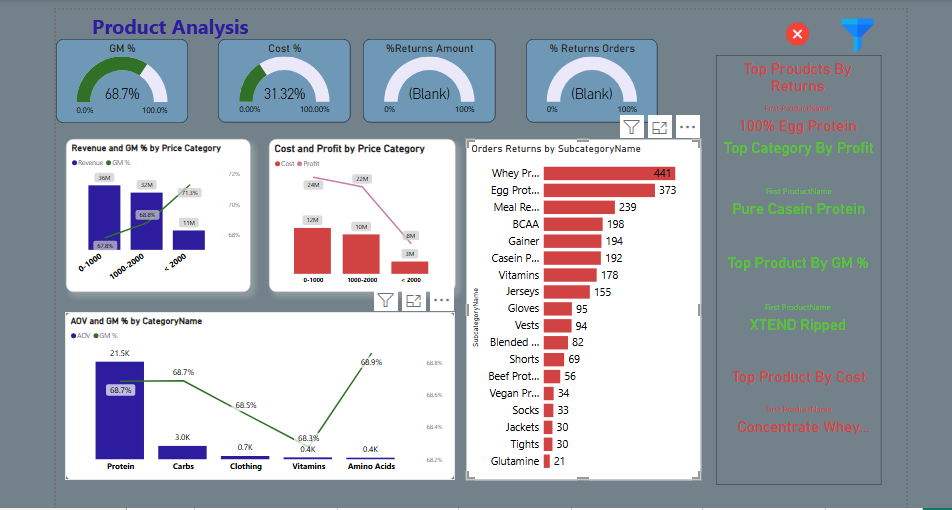

Layout of this report page (visuals, bound fields, positions):
{"tool":"powerbi","page":{"name":"Product Analysis","canvas":[1700,1000],"ordinal":4},"visuals":[{"type":"gauge","fields":{"Y":["Calculations.GM %"]},"box":[0,58,264,168],"z":0},{"type":"lineClusteredColumnComboChart","fields":{"Category":["SalesDetails.Price Category"],"Y":["Calculations.Revenue"],"Y2":["Calculations.GM %"]},"box":[19.8,257.4,369,306],"z":1000},{"type":"lineClusteredColumnComboChart","fields":{"Category":["SalesDetails.Price Category"],"Y":["Calculations.Cost"],"Y2":["Calculations.Profit"]},"box":[426.6,257.4,372.6,306],"z":2000},{"type":"shape","box":[1319.2,90.4,330.8,859.6],"z":3000},{"type":"lineClusteredColumnComboChart","fields":{"Y":["Calculations.AOV"],"Y2":["Calculations.GM %"],"Category":["Products.CategoryName"]},"box":[18,604,780,336],"z":4000},{"type":"gauge","fields":{"Y":["Calculations.Cost %"]},"box":[323.1,57.7,265.4,167.3],"z":5000},{"type":"gauge","fields":{"Y":["Returns Measuerments.%Returns Amount"]},"box":[613.5,57.7,265.4,167.3],"z":6000},{"type":"gauge","fields":{"Y":["Returns Measuerments.% Returns Orders"]},"box":[940.4,57.7,263.5,167.3],"z":7000},{"type":"image","title":"Product Filter","box":[1559.3,13,85.2,77.8],"z":8000},{"type":"cardVisual","title":"Top Proudcts By Returns","fields":{"Data":["Min(Products.ProductName)"]},"box":[1317.6,99,331.2,165.6],"z":10000},{"type":"barChart","fields":{"Category":["Products.SubcategoryName"],"Y":["Returns Measuerments.Orders Returns"]},"box":[819.2,257.7,471.2,682.7],"z":14000},{"type":"cardVisual","title":"Top Category By Profit","fields":{"Data":["Min(Products.ProductName)"]},"box":[1319.4,257.4,331.2,214.2],"z":15000},{"type":"cardVisual","title":"Top Product By GM %","fields":{"Data":["Min(Products.ProductName)"]},"box":[1318.7,487.2,331.3,216.5],"z":16000},{"type":"cardVisual","title":"Top Product By Cost","fields":{"Data":["Min(Products.ProductName)"]},"box":[1319.2,715.4,332.7,169.2],"z":17000},{"type":"actionButton","title":"Product Title","box":[0,0,456.2,58.3],"z":22000},{"type":"image","box":[1450,20.8,66.7,56.2],"z":24000}]}

Visuals, with their boxes on the page's 1700x1000 design canvas (x1, y1, x2, y2). These are canvas units, not pixel positions in the 952x510 screenshot, which may show the page scaled, cropped or inside an application window:
gauge - Calculations.GM %: crop(0, 58, 264, 226)
lineClusteredColumnComboChart - SalesDetails.Price Category x Calculations.Revenue: crop(20, 257, 389, 563)
lineClusteredColumnComboChart - SalesDetails.Price Category x Calculations.Cost: crop(427, 257, 799, 563)
shape: crop(1319, 90, 1650, 950)
lineClusteredColumnComboChart - Calculations.AOV x Calculations.GM %: crop(18, 604, 798, 940)
gauge - Calculations.Cost %: crop(323, 58, 588, 225)
gauge - Returns Measuerments.%Returns Amount: crop(614, 58, 879, 225)
gauge - Returns Measuerments.% Returns Orders: crop(940, 58, 1204, 225)
"Product Filter" image: crop(1559, 13, 1644, 91)
"Top Proudcts By Returns" cardVisual: crop(1318, 99, 1649, 265)
barChart - Products.SubcategoryName x Returns Measuerments.Orders Returns: crop(819, 258, 1290, 940)
"Top Category By Profit" cardVisual: crop(1319, 257, 1651, 472)
"Top Product By GM %" cardVisual: crop(1319, 487, 1650, 704)
"Top Product By Cost" cardVisual: crop(1319, 715, 1652, 885)
"Product Title" actionButton: crop(0, 0, 456, 58)
image: crop(1450, 21, 1517, 77)
